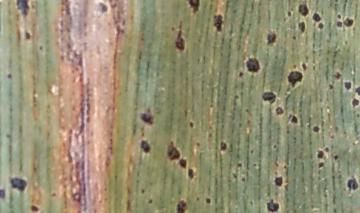tarspot: (285, 70, 304, 90), (174, 19, 185, 53), (8, 175, 27, 193), (166, 140, 181, 162), (14, 1, 32, 18), (245, 55, 260, 75), (138, 112, 156, 126), (261, 90, 277, 105), (212, 13, 224, 32), (265, 198, 280, 213), (184, 1, 202, 13), (265, 31, 279, 46), (139, 138, 151, 154), (297, 2, 309, 18), (346, 176, 359, 190), (175, 199, 188, 213), (96, 1, 109, 15), (177, 157, 188, 169), (311, 12, 322, 24), (342, 17, 355, 27), (332, 70, 343, 81), (297, 19, 305, 33), (218, 140, 228, 151), (350, 97, 360, 108), (274, 175, 283, 187), (275, 105, 284, 117), (186, 168, 195, 180), (23, 30, 33, 40), (289, 114, 298, 125), (343, 80, 352, 91), (230, 171, 239, 182), (29, 204, 39, 213), (312, 124, 320, 135), (316, 149, 324, 160), (335, 20, 344, 29), (316, 22, 325, 31), (285, 9, 294, 18), (316, 161, 324, 171), (36, 43, 44, 53), (354, 85, 360, 98), (1, 188, 7, 200), (301, 61, 307, 73), (335, 12, 343, 21), (326, 82, 335, 90), (5, 72, 13, 80), (239, 175, 246, 184), (147, 198, 155, 205), (139, 187, 146, 195), (188, 121, 194, 130), (324, 145, 330, 154), (50, 191, 57, 198), (205, 197, 211, 205), (236, 161, 242, 169), (194, 141, 202, 147), (252, 161, 258, 169), (238, 70, 244, 77), (248, 148, 254, 155), (170, 24, 175, 32), (333, 154, 339, 160), (291, 35, 297, 41), (272, 143, 278, 149), (333, 1, 339, 3), (343, 1, 348, 3)
